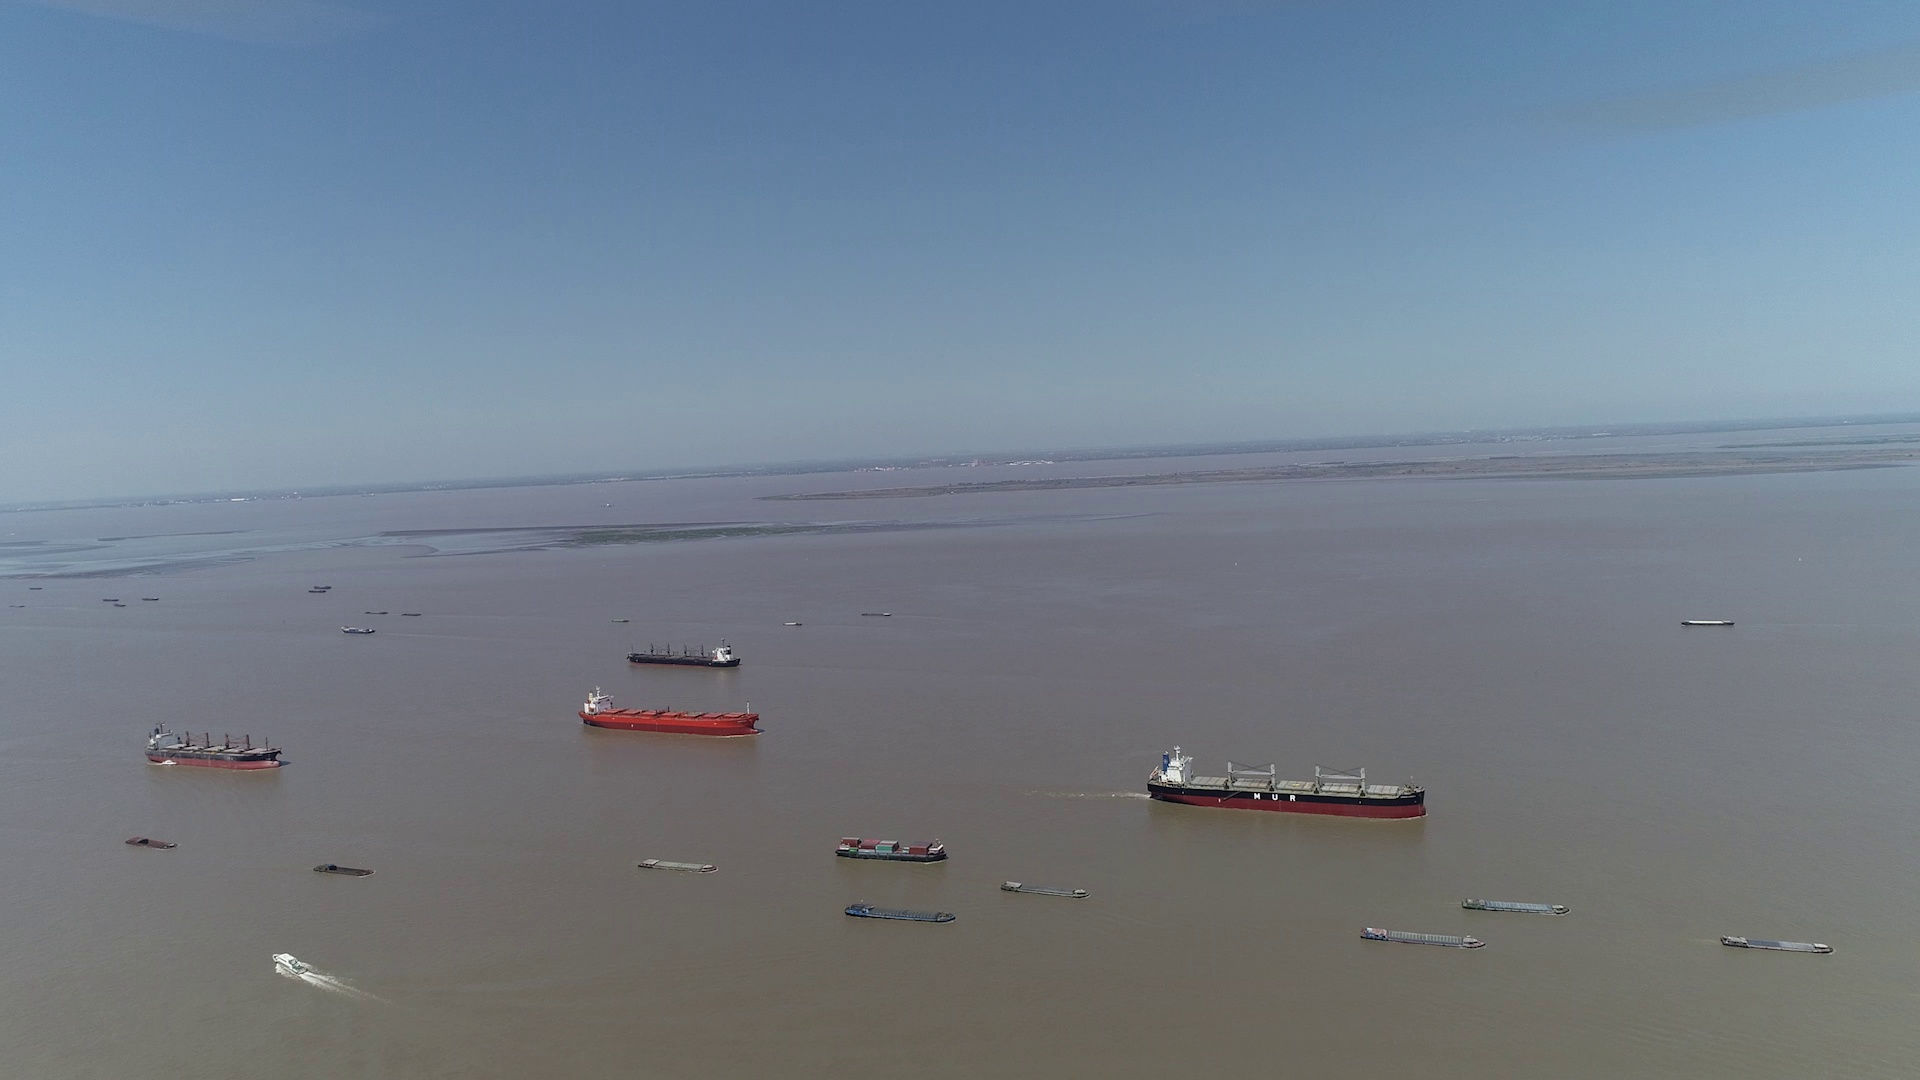ship: (1146, 745, 1425, 818), (579, 688, 757, 737), (142, 723, 281, 771), (1360, 924, 1486, 949), (833, 835, 945, 862), (628, 641, 738, 667), (1721, 934, 1836, 953), (1458, 897, 1569, 916), (844, 902, 955, 922), (1000, 880, 1091, 898), (637, 858, 715, 873), (314, 864, 372, 877), (125, 836, 178, 851), (269, 953, 303, 975), (1684, 618, 1733, 626), (340, 624, 376, 633)
